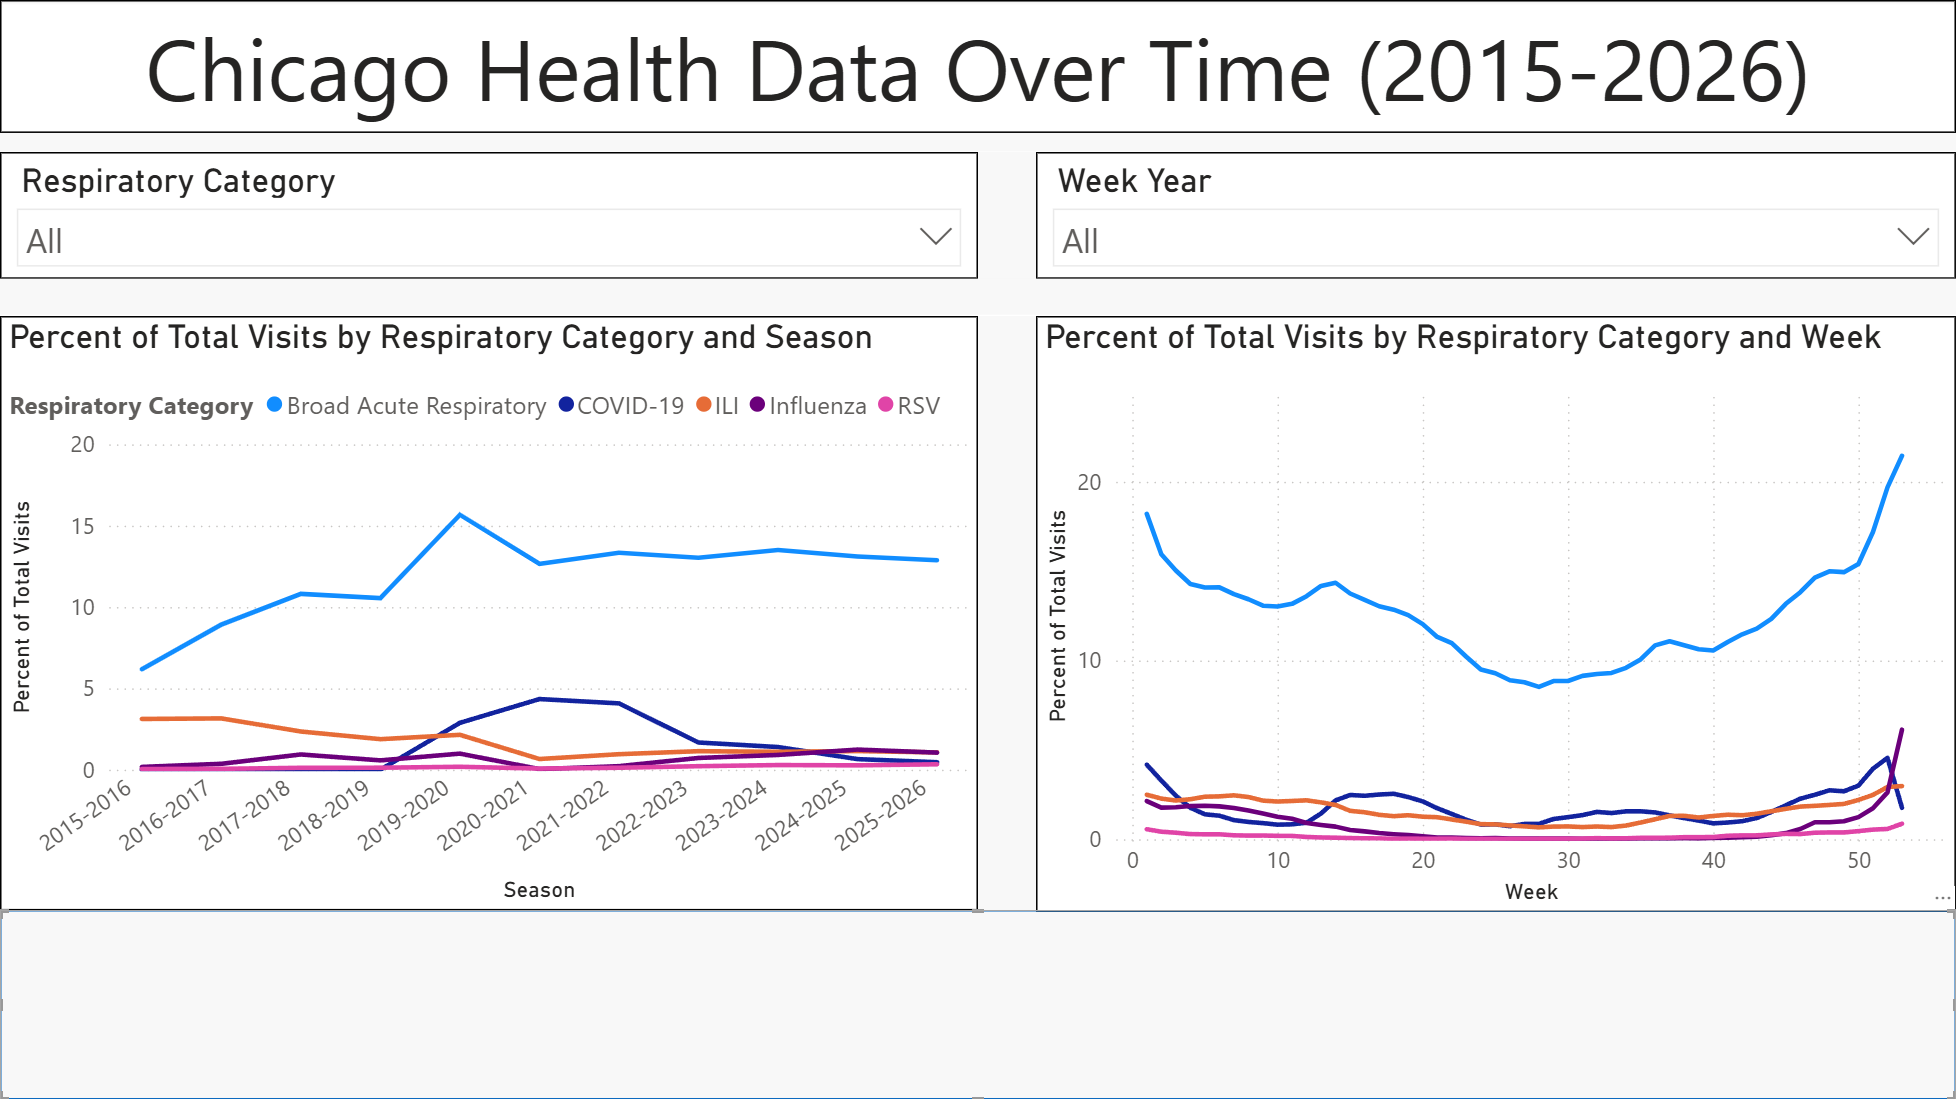

This screenshot's page, from the dashboard's own definition file:
{"tool":"powerbi","page":{"name":"Health Trends","canvas":[1280,720],"ordinal":0},"visuals":[{"type":"lineChart","title":"Percent of Total Visits by Respiratory Category and Season","fields":{"Category":["Season Data.event_season"],"Y":["Avg(Season Data.percent)"],"Series":["Season Data.respiratory_category"]},"box":[0,206.7,640,388.9],"z":0},{"type":"lineChart","title":"Percent of Total Visits by Respiratory Category and Week ","fields":{"Category":["Chicago Health Weeks.event_week"],"Y":["Avg(Chicago Health Weeks.percent)"],"Series":["Chicago Health Weeks.respiratory_category"]},"box":[678.3,206.7,601.7,390.4],"z":1000},{"type":"slicer","fields":{"Values":["DimRespiratoryCategory.respiratory_category"]},"box":[0,99.5,640,82.7],"z":2000},{"type":"slicer","title":"Year for Weeks","fields":{"Values":["Chicago Health Weeks.event_year"]},"box":[678.3,99.5,601.7,82.7],"z":3000},{"type":"textbox","box":[0,0,1280,87.3],"z":4000},{"type":"shape","box":[0,595.6,1280,124],"z":5000},{"type":"shape","box":[0,182.2,1280,24.5],"z":6000},{"type":"shape","box":[0,87.3,1280,12.2],"z":7000},{"type":"shape","box":[640,206.7,38.3,388.9],"z":8000},{"type":"shape","box":[640,99.5,38.3,82.7],"z":9000}]}

Visuals, with their boxes in screenshot pixels (x1, y1, x2, y2), scaled from the page's 1280x720 canvas onto the 1956x1099 screenshot:
"Percent of Total Visits by Respiratory Category and Season" lineChart: 0,316,978,909
"Percent of Total Visits by Respiratory Category and Week " lineChart: 1037,316,1955,911
slicer - DimRespiratoryCategory.respiratory_category: 0,152,978,278
"Year for Weeks" slicer: 1037,152,1955,278
textbox: 0,0,1955,133
shape: 0,909,1955,1098
shape: 0,278,1955,316
shape: 0,133,1955,152
shape: 978,316,1037,909
shape: 978,152,1037,278
